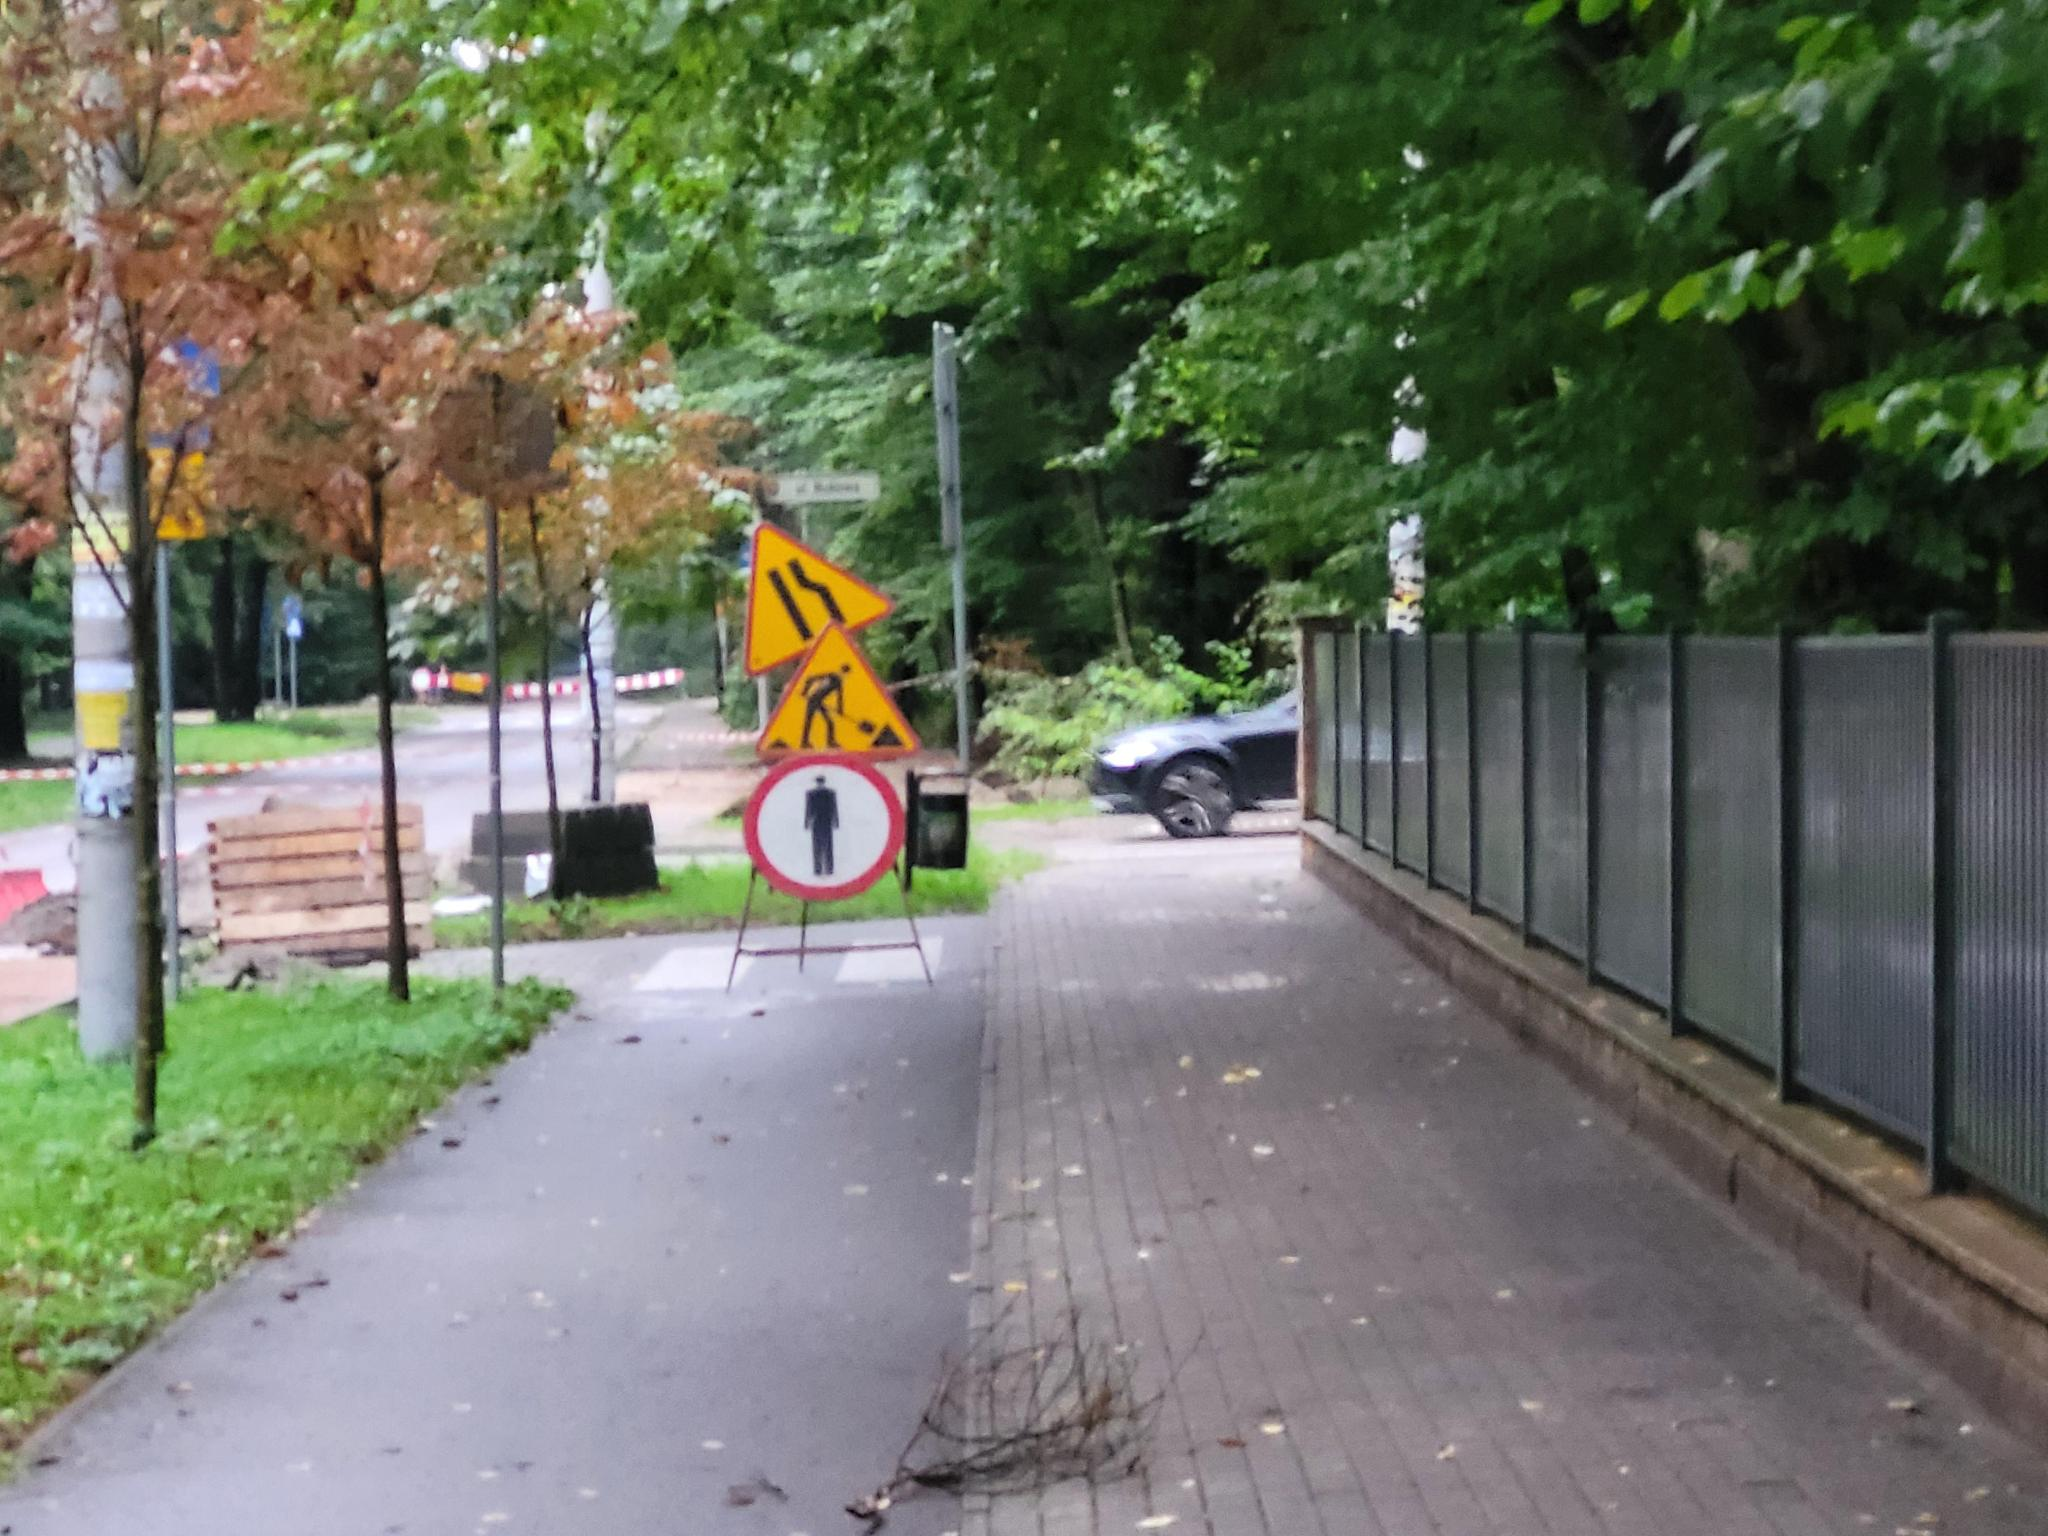information: (282, 600, 303, 639)
prohibitory: (742, 752, 908, 905), (411, 668, 434, 692)
warning: (755, 620, 922, 765), (742, 523, 892, 676)
